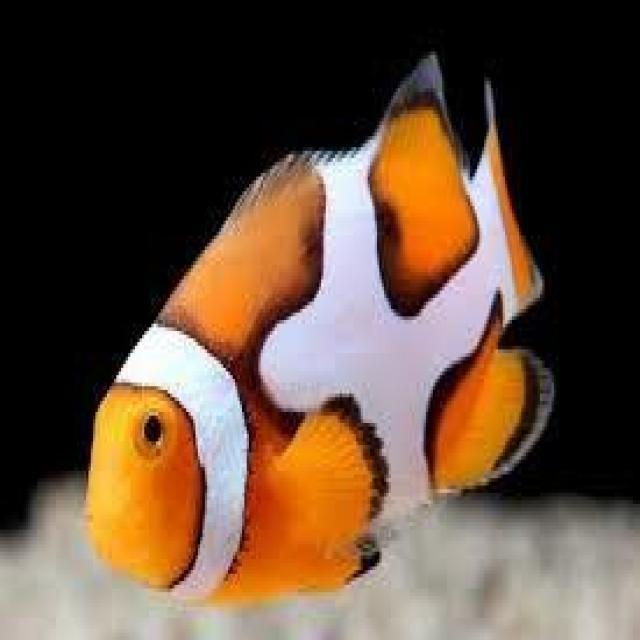ClownFish: (82, 52, 556, 617)
